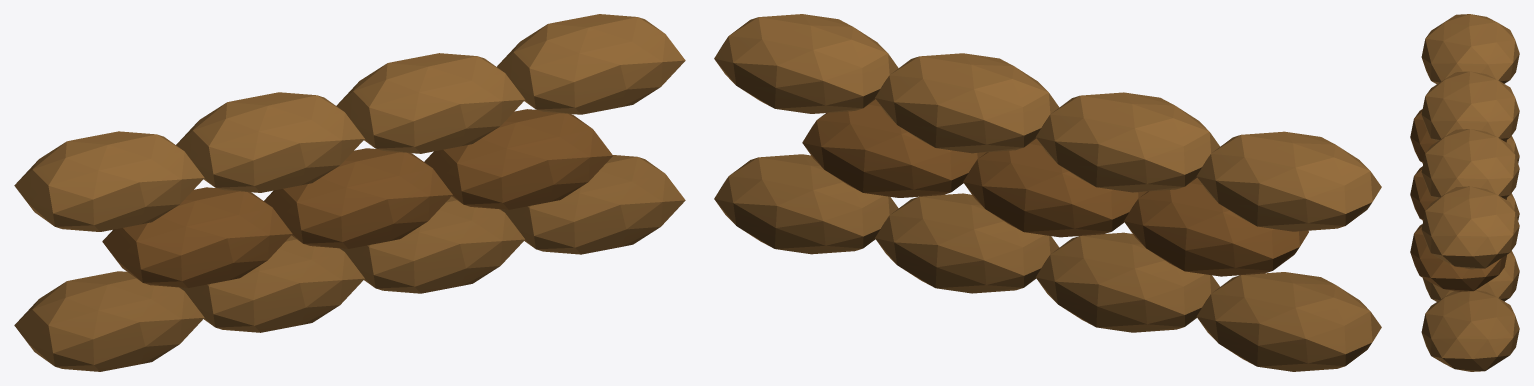
The model's file is sandbags.glb.
The picture shows the model from 3 angles, left to right: view 1: azimuth 30°, elevation 25°; view 2: azimuth 150°, elevation 25°; view 3: azimuth 270°, elevation 25°; orthographic projection. The views are drawn at different scales.
Visible parts, largest first — view 1: sandbags_root_body; view 2: sandbags_root_body; view 3: sandbags_root_body.
Boxes of the visible parts, <box> form: sandbags_root_body: <box>14,14,685,371</box>; sandbags_root_body: <box>714,14,1381,371</box>; sandbags_root_body: <box>1410,14,1519,371</box>.
Size of the model in its own units: 1.93 by 0.6196 by 0.3867.
